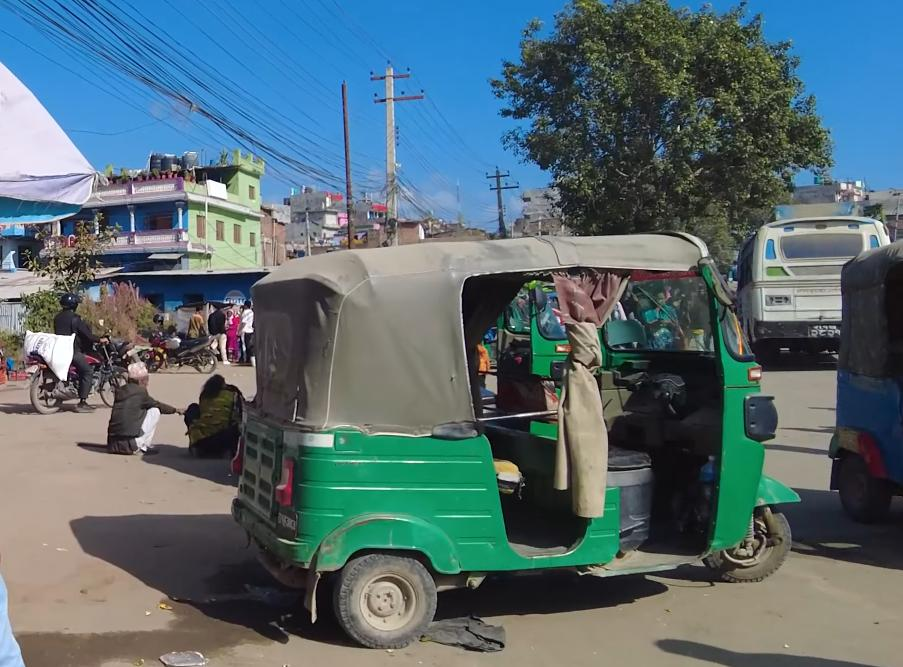auto_rickshaw: (228, 225, 797, 649), (829, 237, 903, 518)
bike: (19, 339, 132, 414), (145, 323, 223, 375)
bus: (729, 197, 900, 354)
